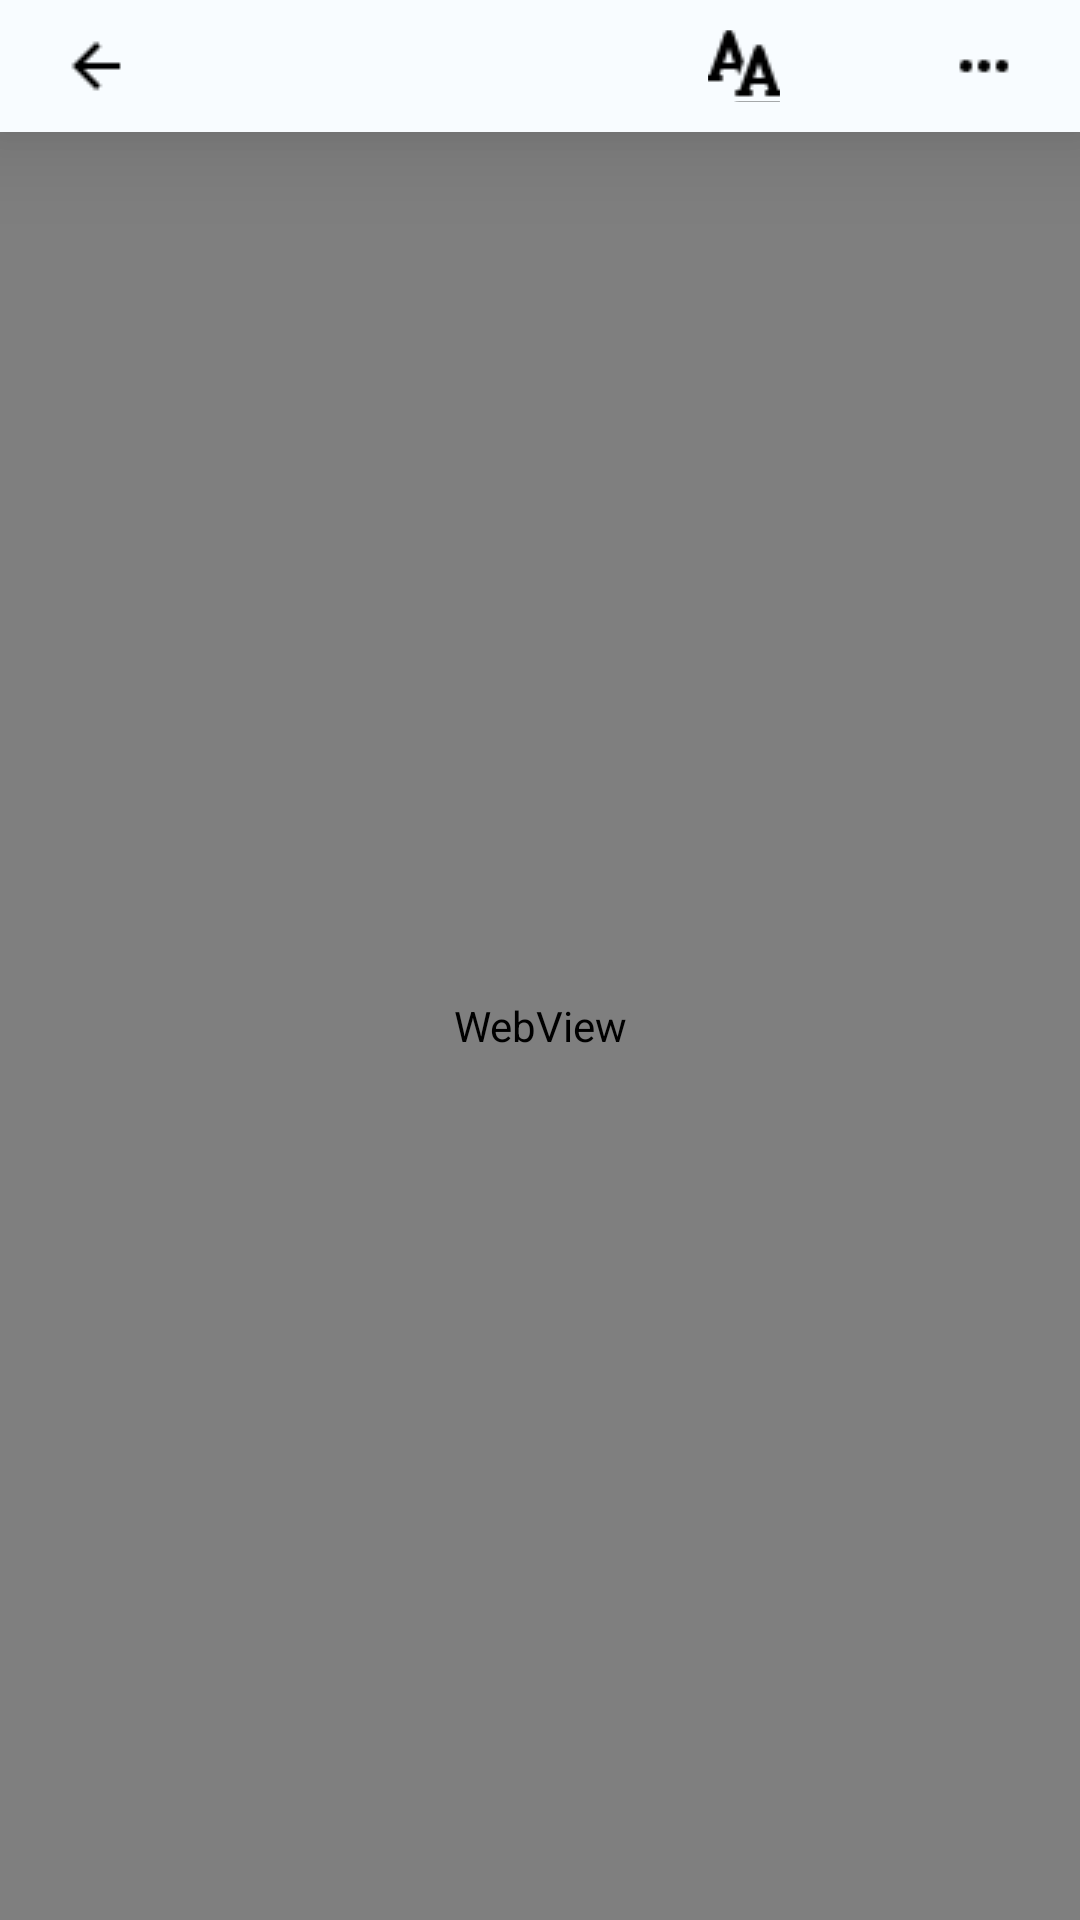

Named icons in this screenshot (1080w x 1920h) and their centers, [x,y]:
bacham: [984,66]
lui: [96,66]
